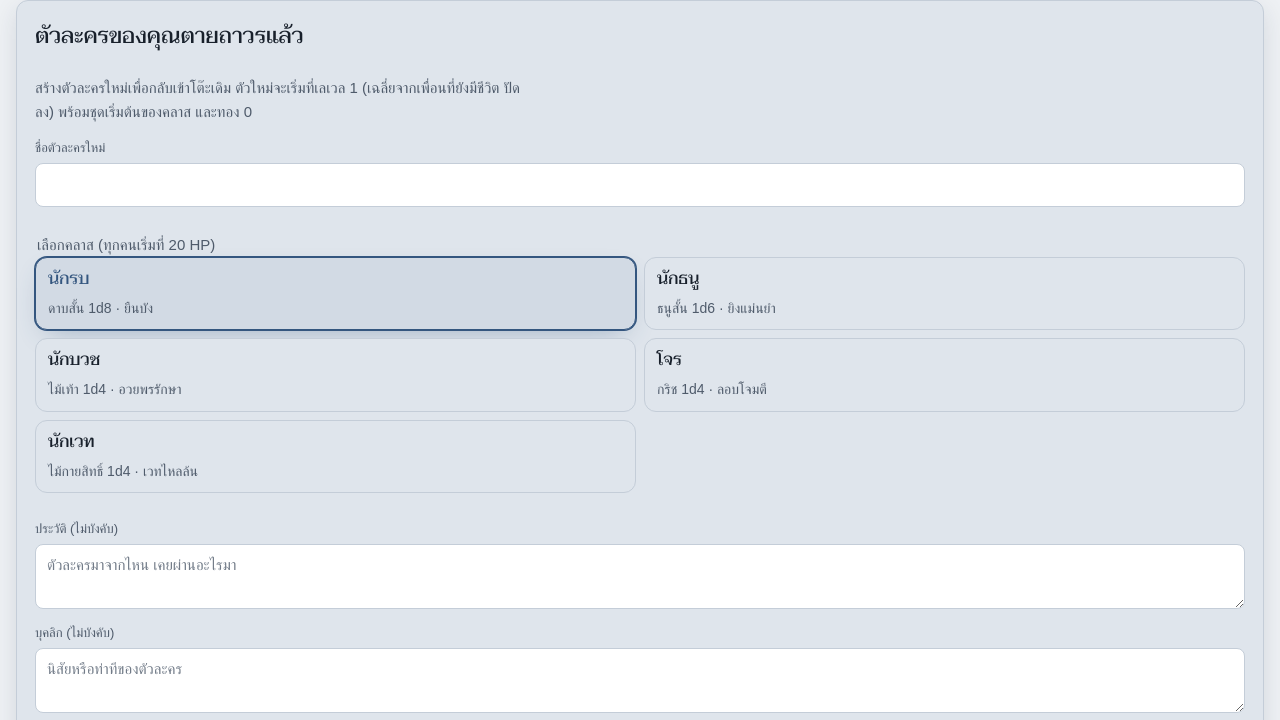
Test: RespawnForm › shows an error message instead of crashing when the request fails
The image size is (1280, 720).
Type "Nova" into the field named "display name" at (640, 185), box [35,163,1245,207]
(page scrolled)
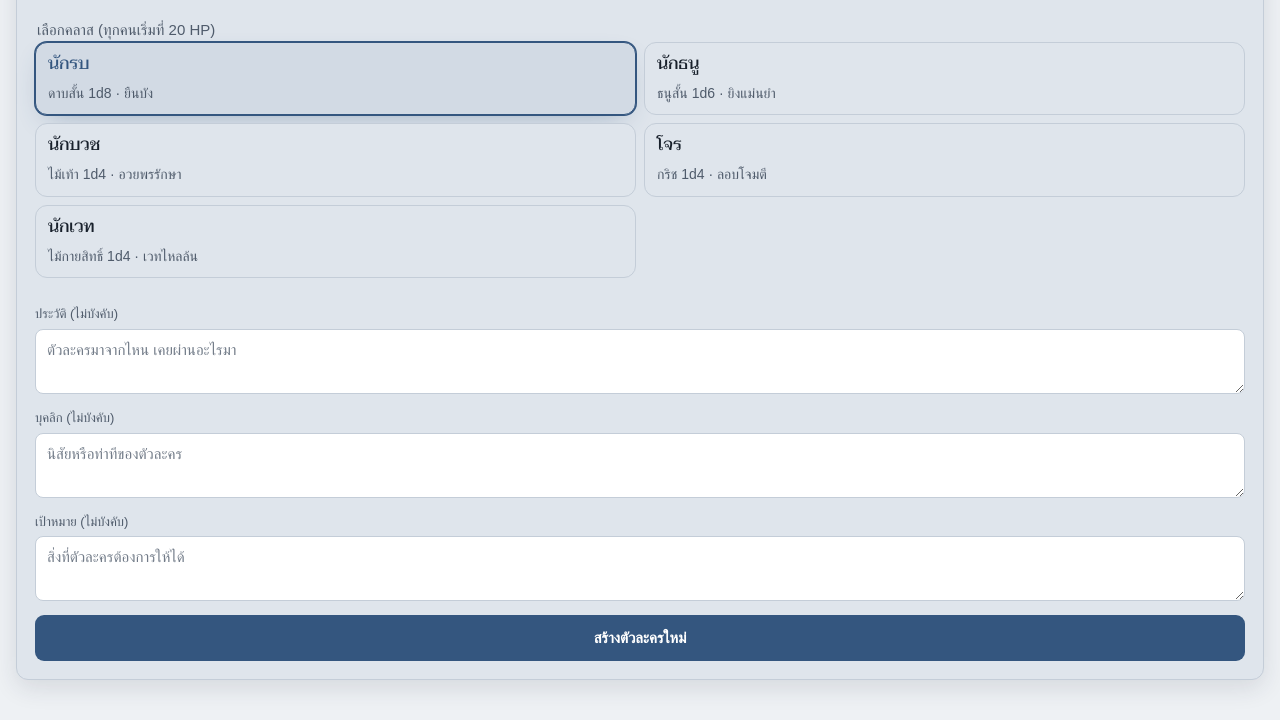
Click the button "สร้างตัวละครใหม่" at (640, 638), box [35,615,1245,661]
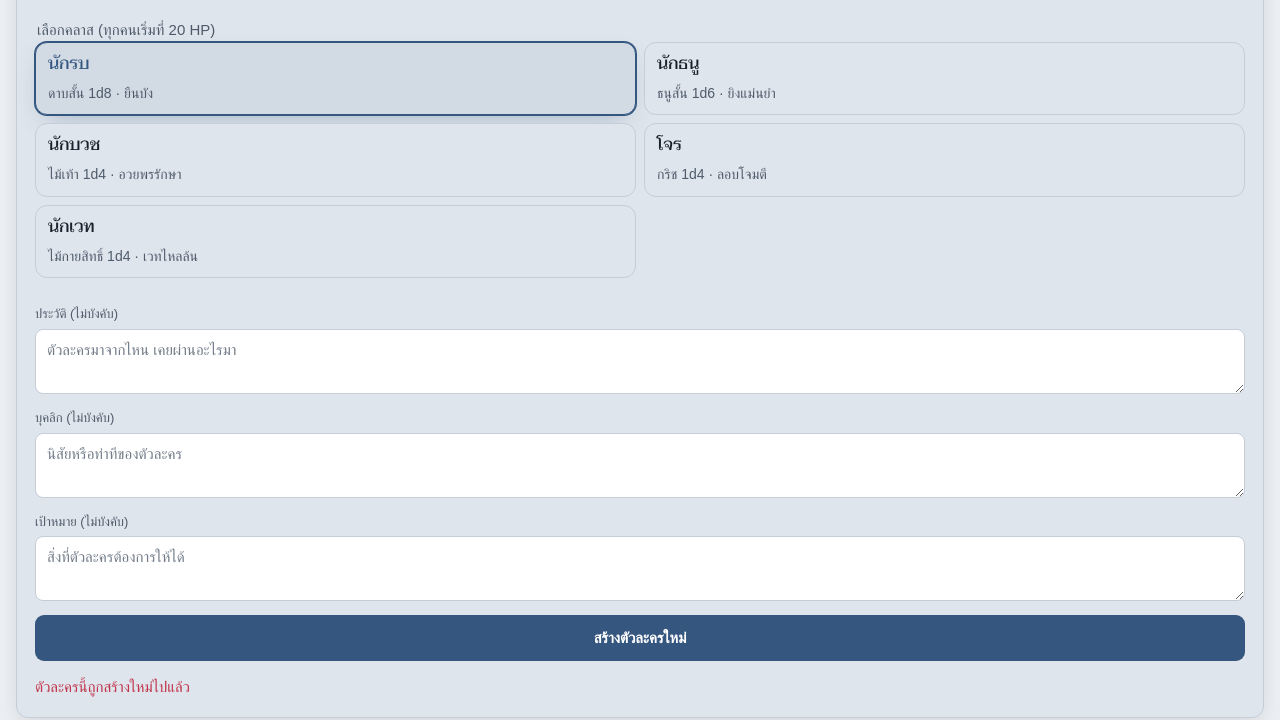
Check: the button "สร้างตัวละครใหม่" is enabled, box [35,615,1245,661]
Check: the message shows "ถูกสร้างใหม่ไปแล้ว", box [35,678,190,695]
